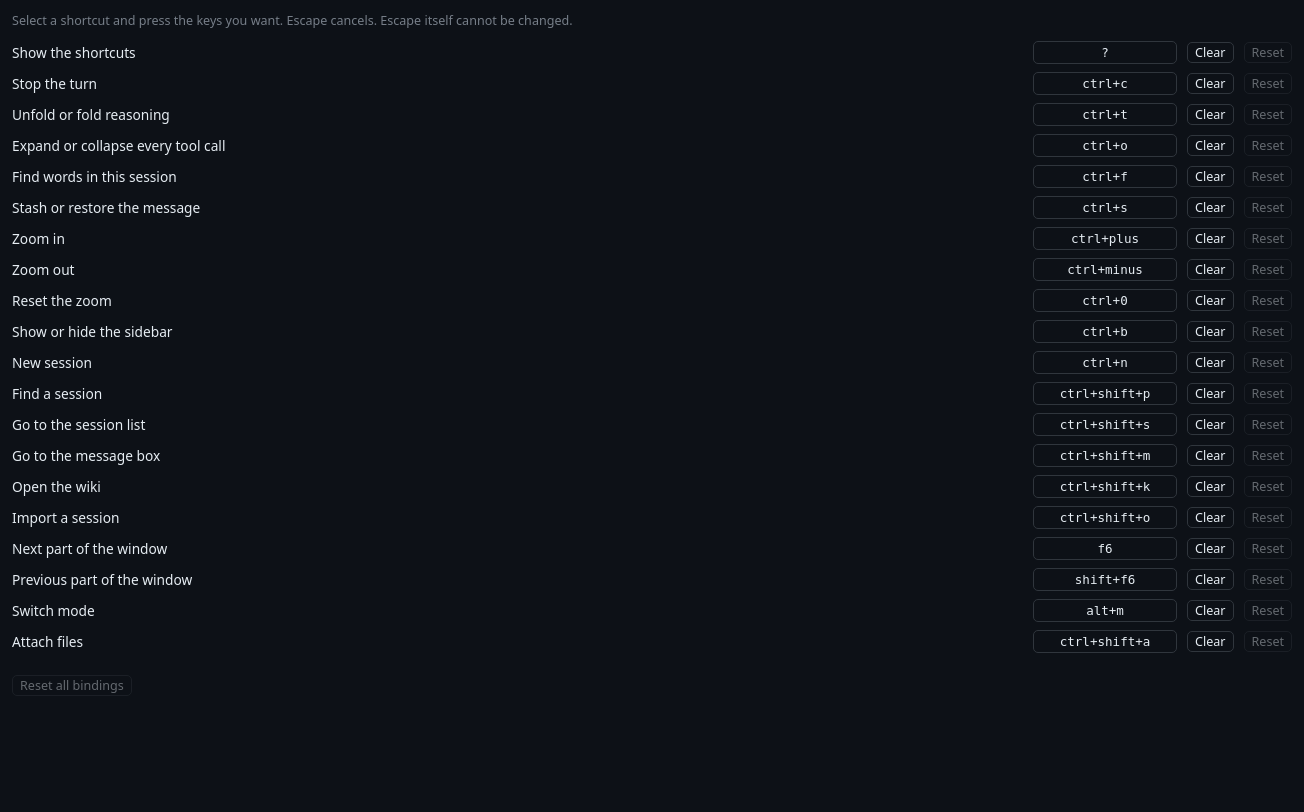
Test: giving a key new keys › waits for a press once the row is chosen
Step 1. Click the button named "Show or hide the sidebar" → (1105, 332), box [1033,320,1177,343]
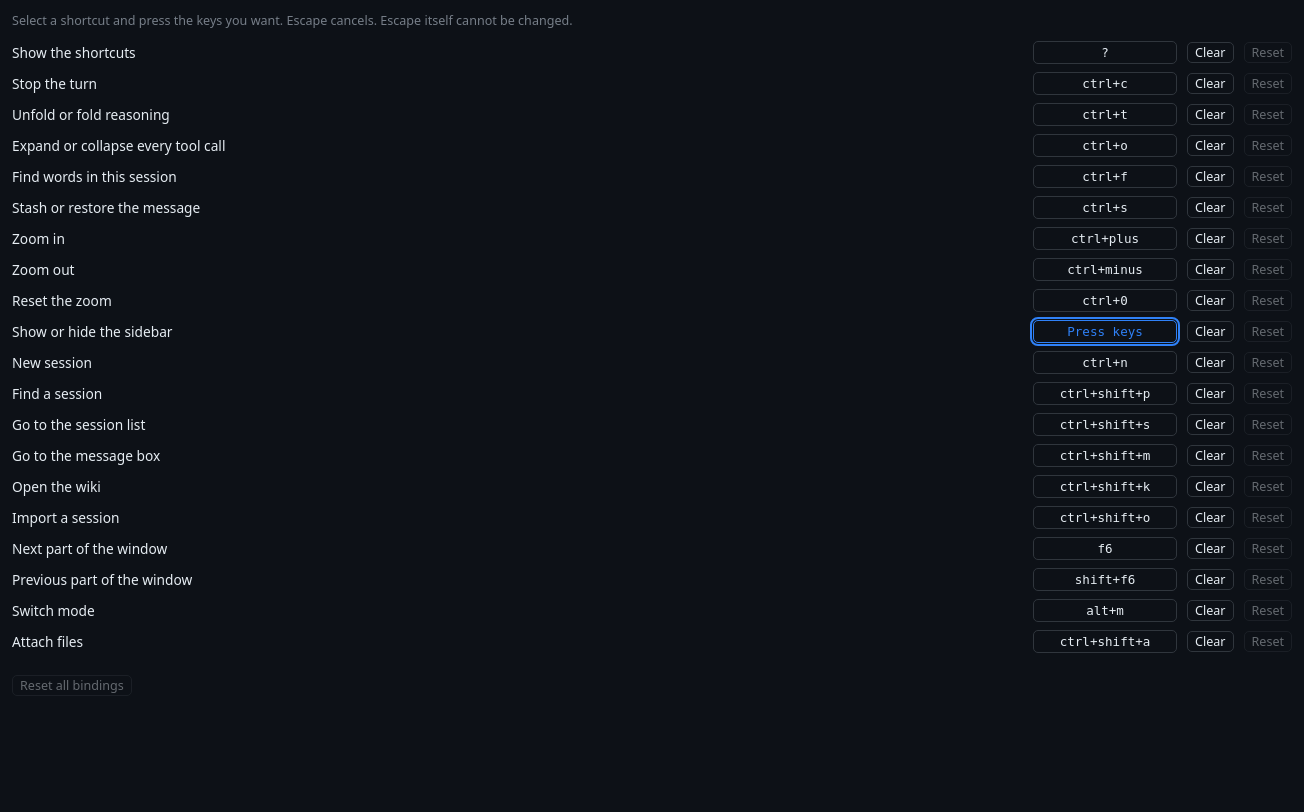
Expected: the button named "Show or hide the sidebar" reads "Press keys", [1033,320,1177,343]
